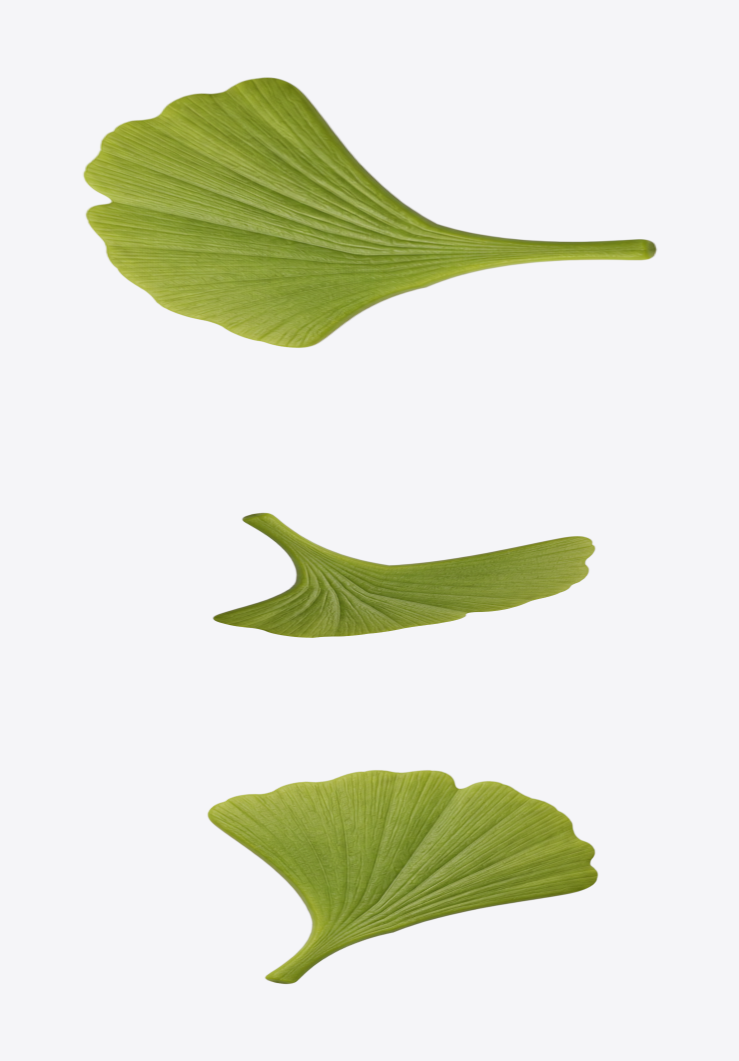
The model's file is hoja06.glb.
3 views of the same model, one above another, from view 1: azimuth 30°, elevation 25°; view 2: azimuth 150°, elevation 25°; view 3: azimuth 270°, elevation 25° (orthographic). The views are drawn at different scales.
Parts seen in each view (by area): view 1: Object_2; view 2: Object_2; view 3: Object_2.
Boxes of the visible parts, x1,y1,x2,y2 form: Object_2: [82, 77, 657, 347]; Object_2: [212, 512, 595, 637]; Object_2: [207, 769, 598, 984].
Bounding box in the file's own units: 0.4795 × 0.0557 × 0.4787.
1 material, 1 textured.
